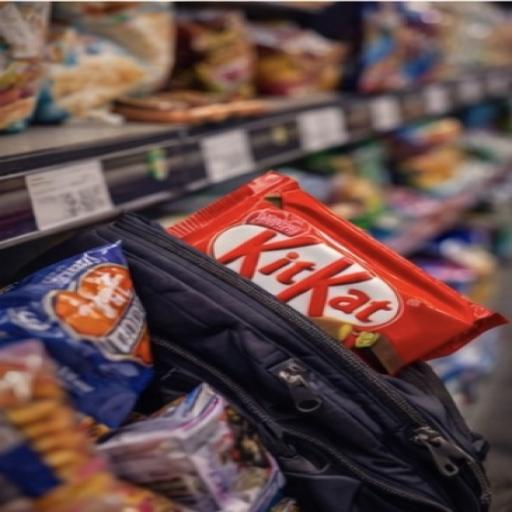kitkat: (118, 141, 512, 400)
